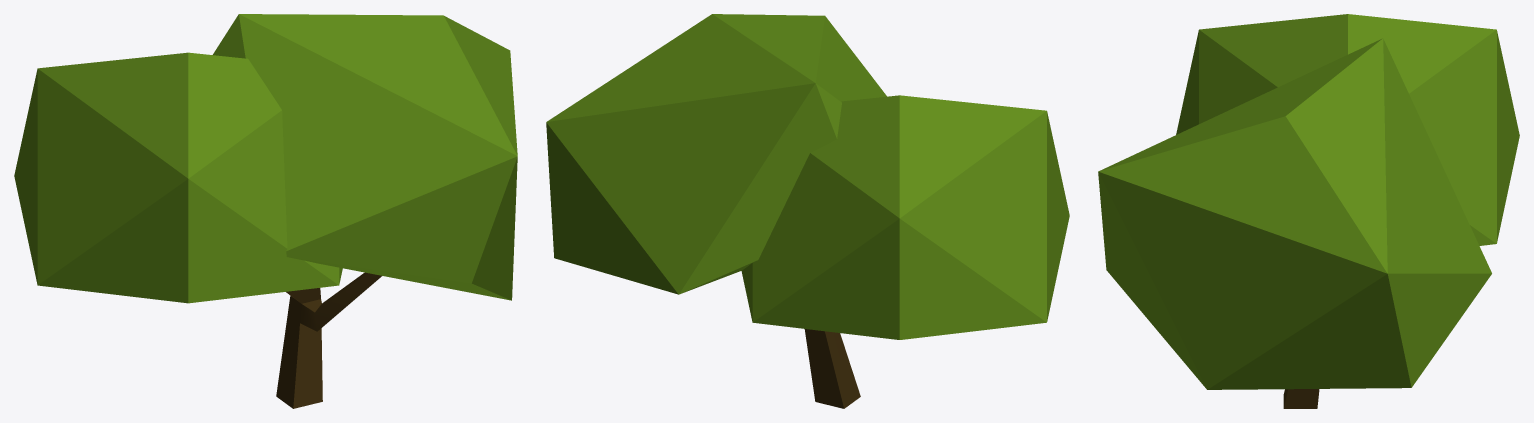
The model's file is bush_3.fbx.
3 views of the same model, side by side, from view 1: azimuth 30°, elevation 25°; view 2: azimuth 150°, elevation 25°; view 3: azimuth 270°, elevation 25° (orthographic). The views are drawn at different scales.
Visible parts, largest first — view 1: GeoSphere043, GeoSphere044, Box006; view 2: GeoSphere044, GeoSphere043, Box006; view 3: GeoSphere043, GeoSphere044, Box006.
Part boxes in pixels (box(x1,y1,x2,y2)): GeoSphere043: box(213, 14, 517, 300); GeoSphere044: box(14, 52, 342, 303); Box006: box(276, 272, 381, 408); GeoSphere044: box(741, 95, 1069, 339); GeoSphere043: box(546, 14, 886, 294); Box006: box(804, 329, 860, 408); GeoSphere043: box(1098, 38, 1491, 389); GeoSphere044: box(1176, 14, 1519, 245); Box006: box(1283, 389, 1319, 408).
Bounding box in the file's own units: 83.29 × 57.99 × 62.5.
